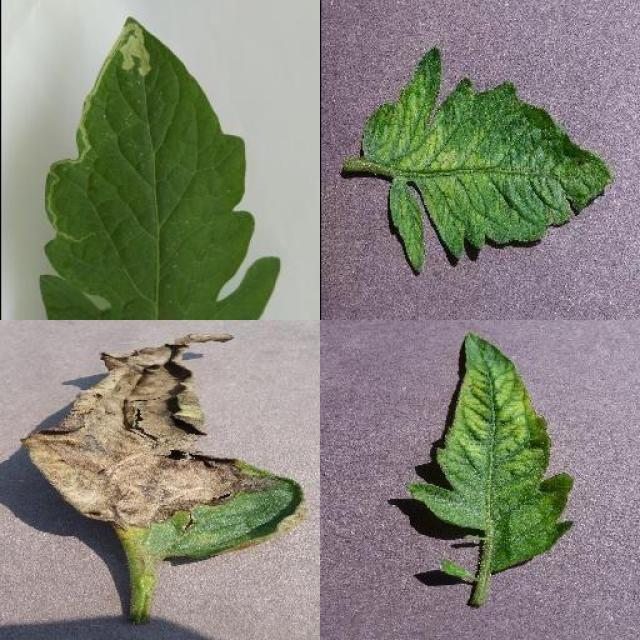Late Blight: (19, 332, 310, 568)
